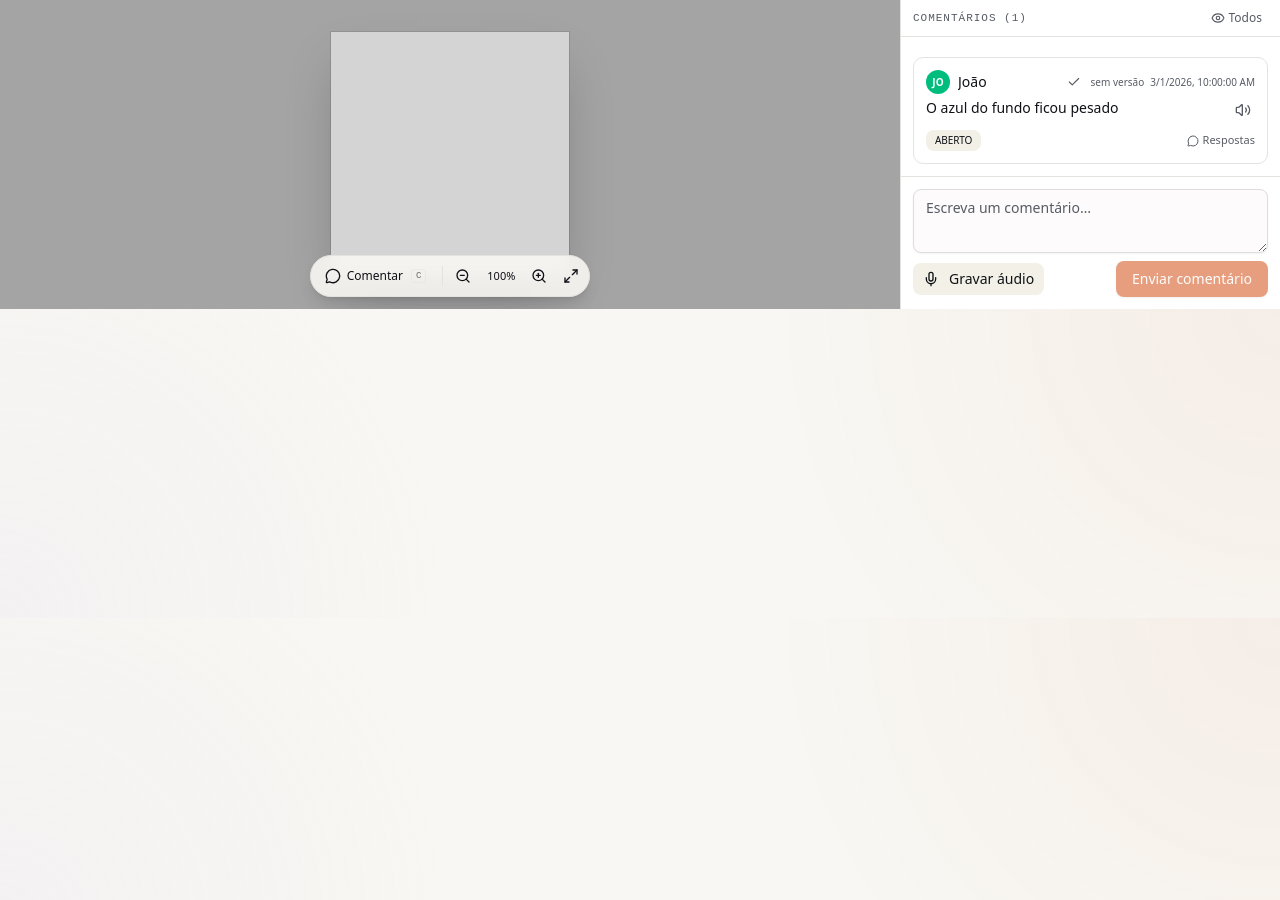
it: conversa: resposta é resposta, não comentário novo › a resposta enviada aparece na thread sem recarregar
Click the button "Respostas".
click(1221, 141)  # box x1=1187 y1=132 x2=1255 y2=149
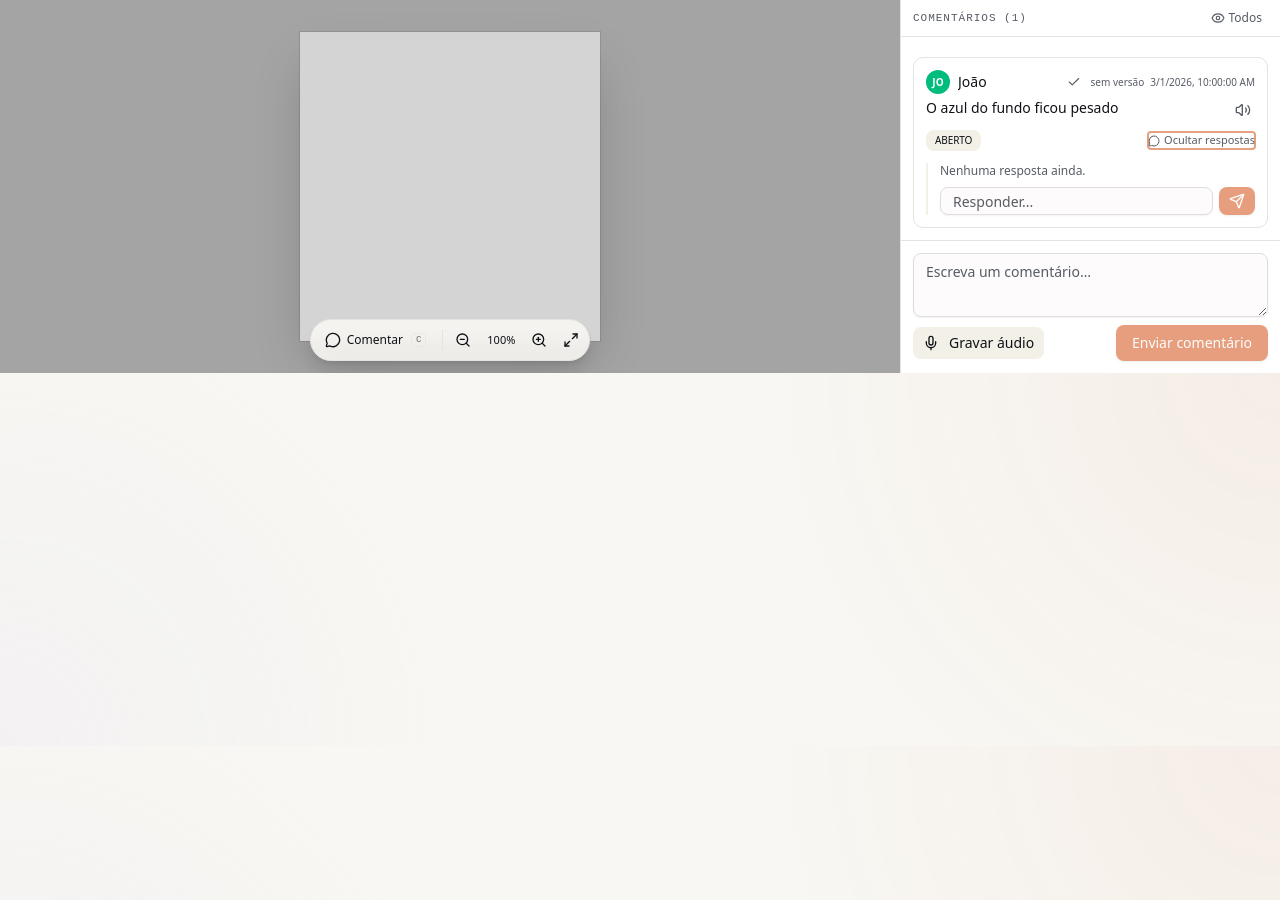
Type "x" into the field with placeholder "Responder...".
click(1076, 201); type("x")  # box x1=940 y1=187 x2=1213 y2=215
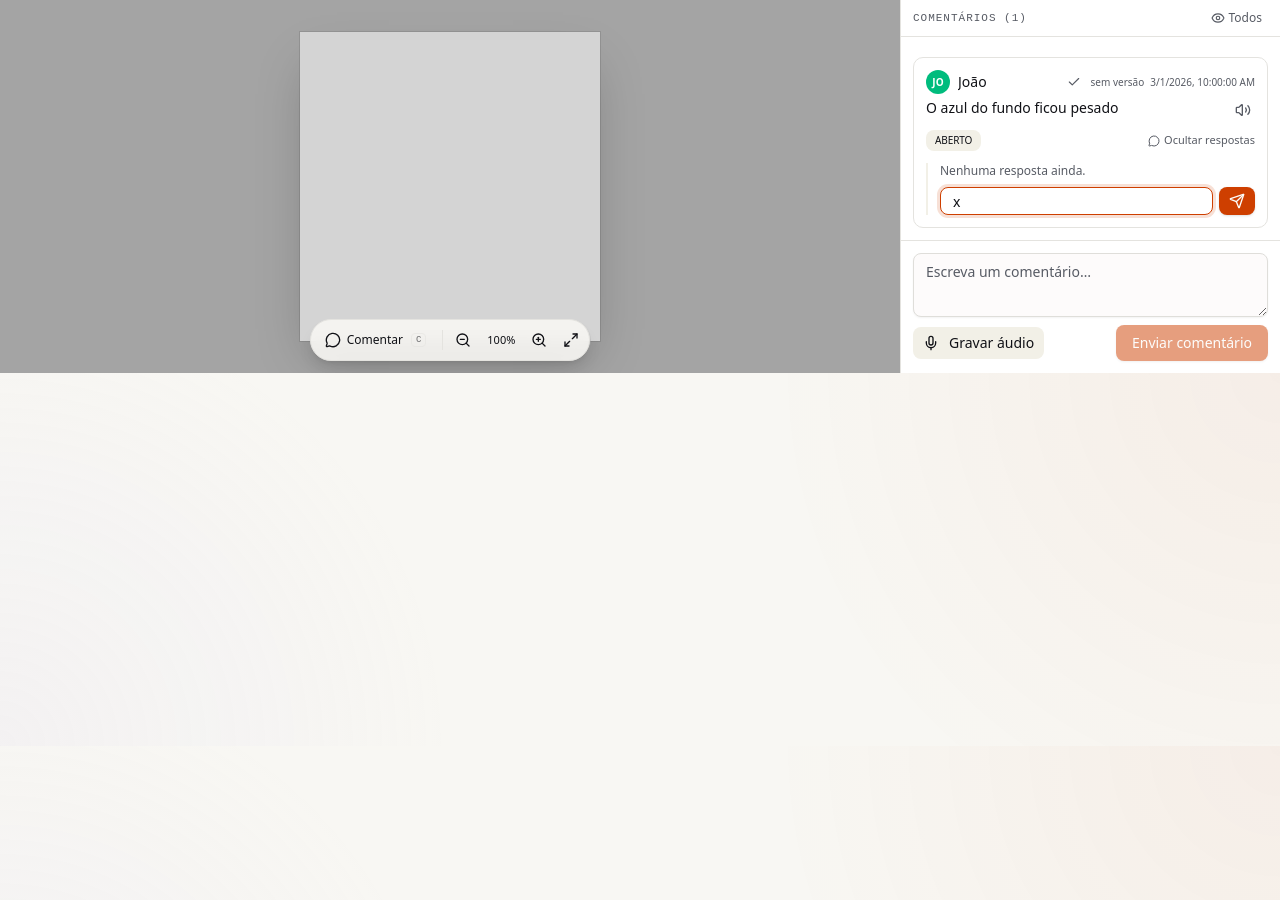
Press Enter
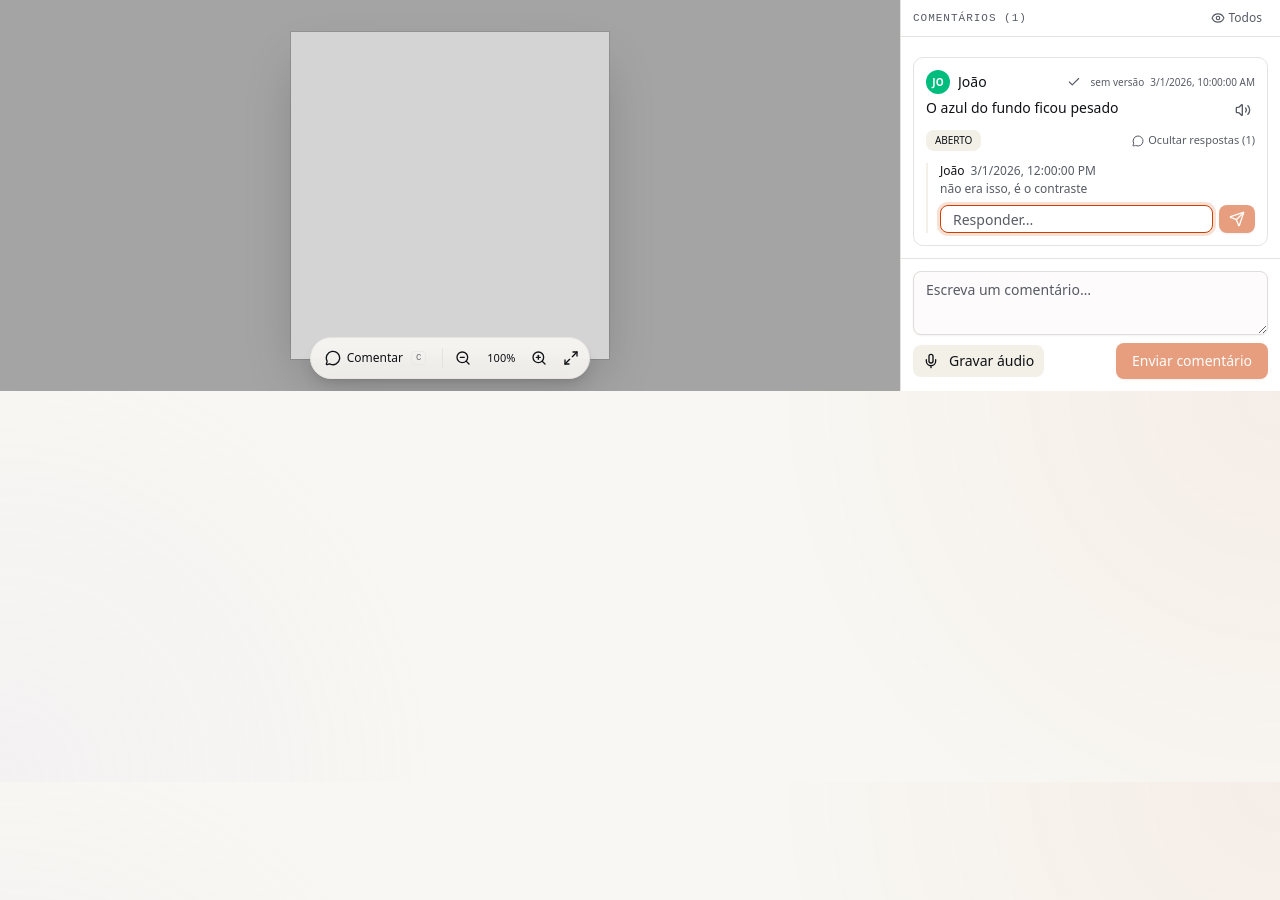
Check: the text "não era isso, é o contraste" is shown once, box x1=940 y1=180 x2=1087 y2=197
